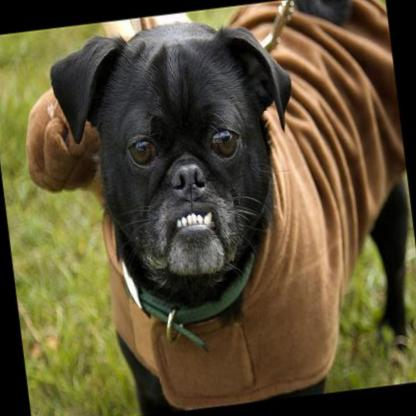pug: (7, 0, 416, 416)
